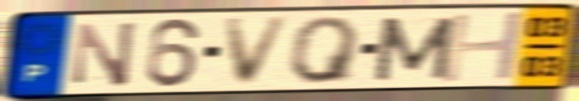6: (143, 16, 202, 90)
H: (438, 9, 528, 86)
M: (370, 14, 460, 83)
N: (70, 19, 140, 89)
Q: (288, 14, 365, 86)
V: (221, 14, 296, 89)
